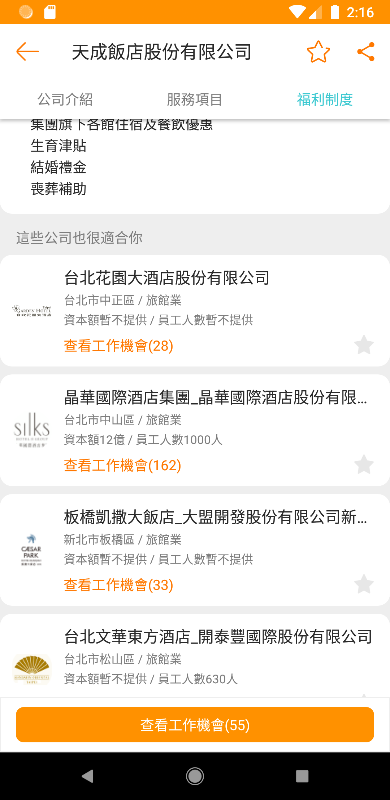button: (12, 704, 378, 745), (301, 35, 334, 71), (348, 327, 379, 362), (346, 453, 379, 481), (12, 37, 43, 66), (355, 37, 380, 71), (352, 573, 378, 598)
